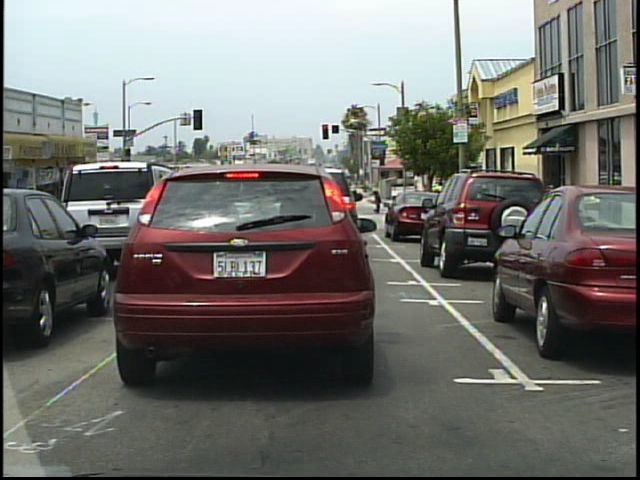person: (372, 186, 383, 218)
